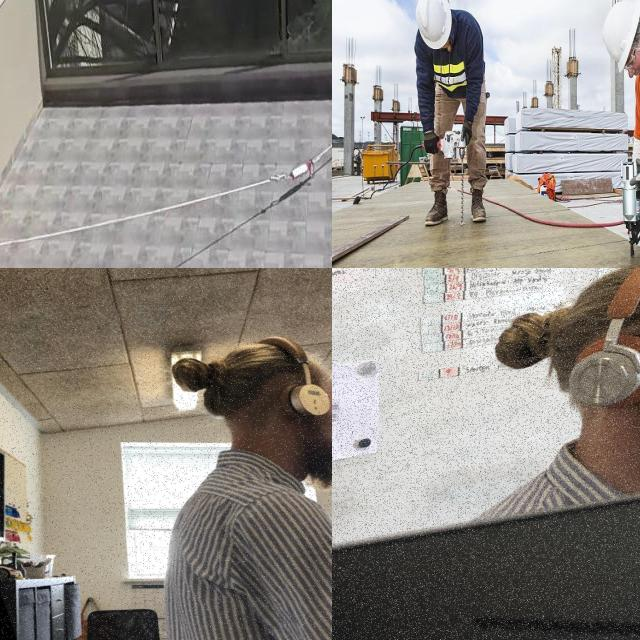Ear-protection: (176, 321, 332, 508), (543, 268, 640, 499)
boots: (422, 187, 452, 230), (466, 187, 488, 225)
face_nomask: (626, 33, 640, 84)
glasses: (621, 48, 637, 73)
hand_glove: (422, 128, 441, 160), (456, 120, 477, 146)
head_helmet: (599, 0, 640, 73), (415, 0, 450, 52)
person: (404, 0, 491, 220), (594, 0, 640, 268)
vest: (414, 38, 480, 108)
